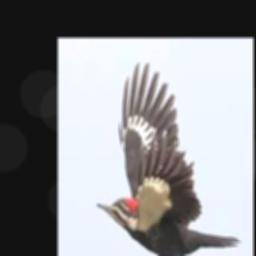Woodpecker: (96, 61, 240, 256)
